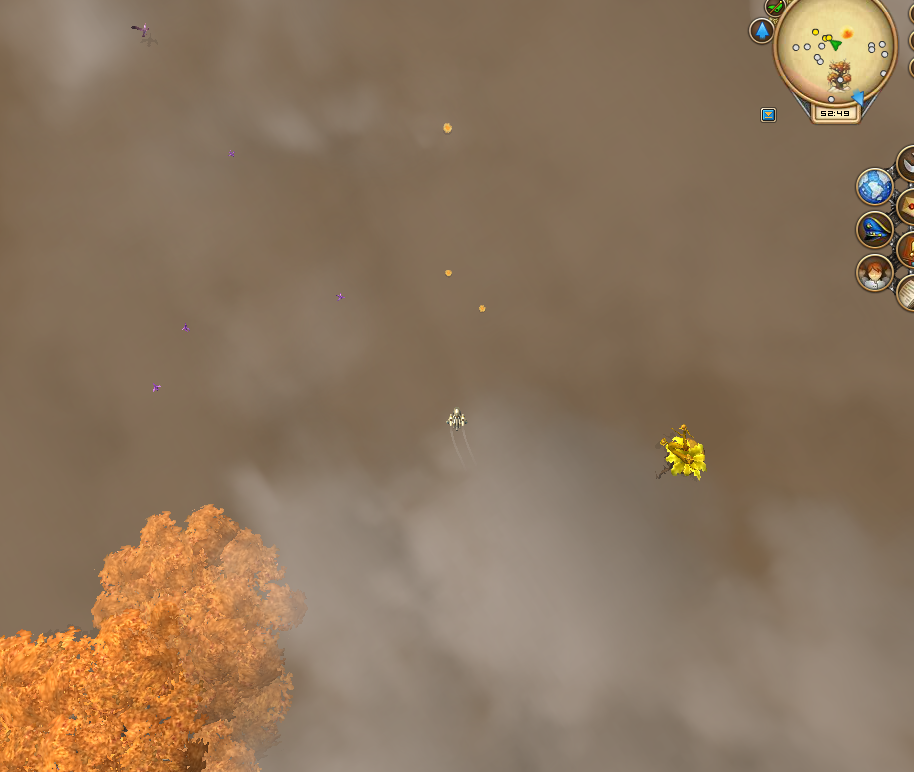dandelion-empty: (655, 417, 707, 487)
fluff: (437, 261, 458, 283), (437, 116, 456, 135), (473, 301, 490, 320)
